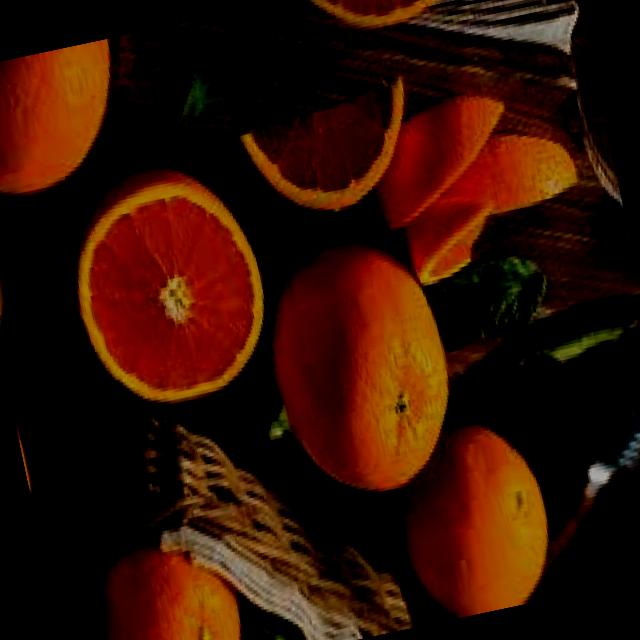Orange: (250, 225, 473, 512), (54, 150, 286, 422), (382, 410, 566, 626), (234, 75, 428, 231), (0, 41, 138, 210), (87, 524, 253, 640), (300, 0, 462, 45), (0, 196, 21, 364)
